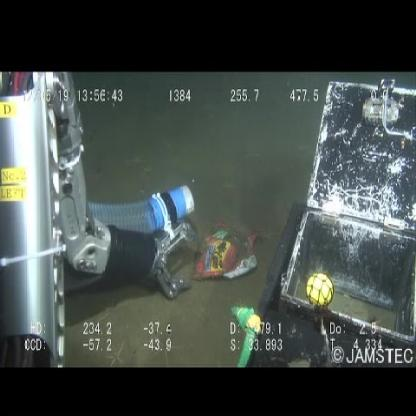Rov: (1, 73, 196, 367), (261, 75, 416, 361)
Rác: (191, 212, 265, 294)
